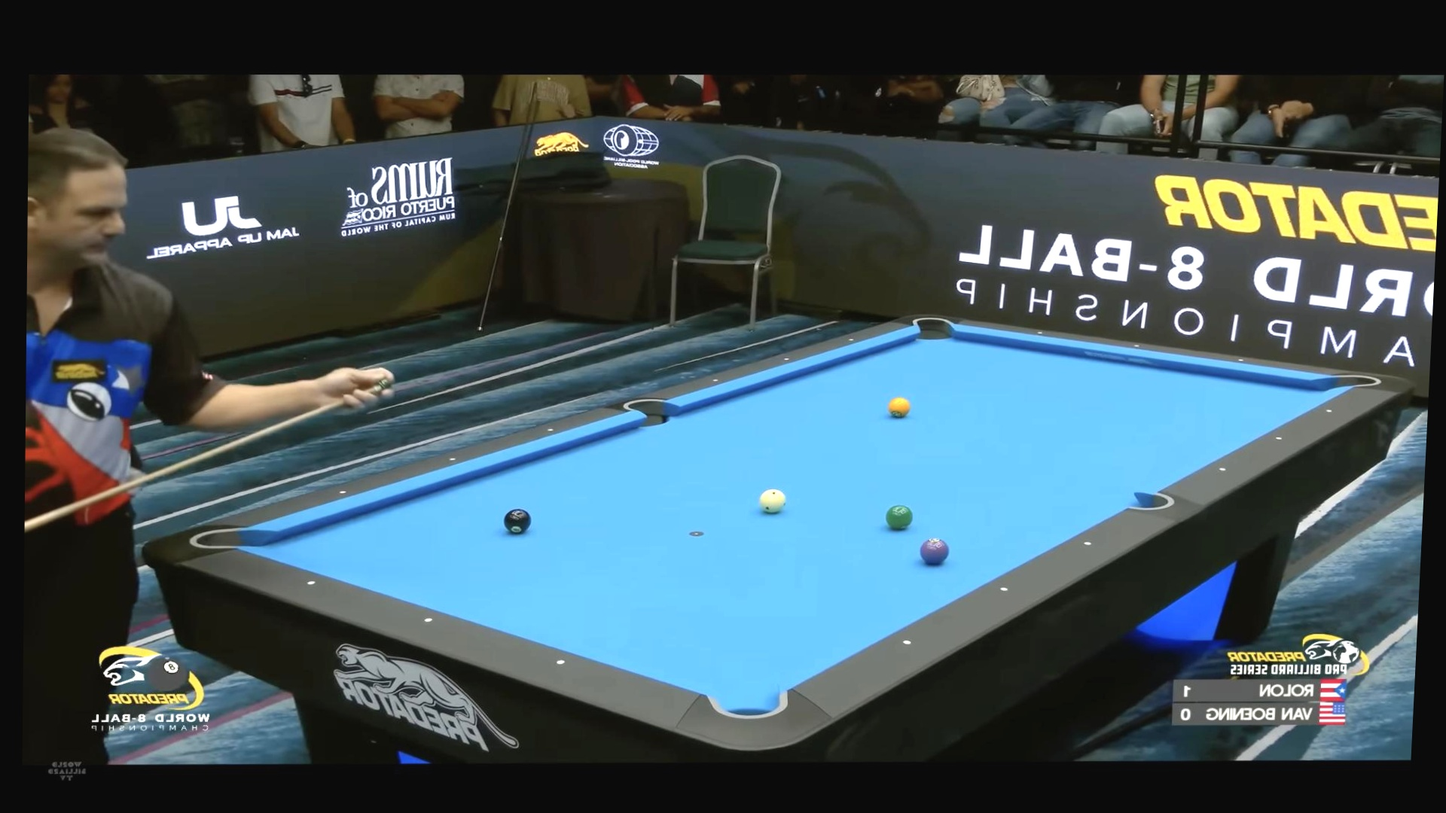Black: (503, 508, 532, 535)
Cue: (759, 488, 786, 514)
Solid: (554, 657, 568, 669), (421, 614, 435, 626), (304, 576, 318, 588), (901, 638, 913, 648), (999, 585, 1011, 595), (1082, 539, 1094, 549), (1325, 406, 1334, 415), (1217, 466, 1226, 474), (1275, 434, 1284, 442), (339, 489, 346, 495), (547, 427, 554, 433), (1237, 357, 1244, 363), (1036, 330, 1043, 336), (1134, 343, 1140, 349), (784, 356, 790, 362), (450, 457, 456, 462), (848, 337, 854, 342), (712, 378, 718, 383)
Striped: (919, 537, 949, 564), (885, 504, 914, 531), (888, 396, 911, 418)
